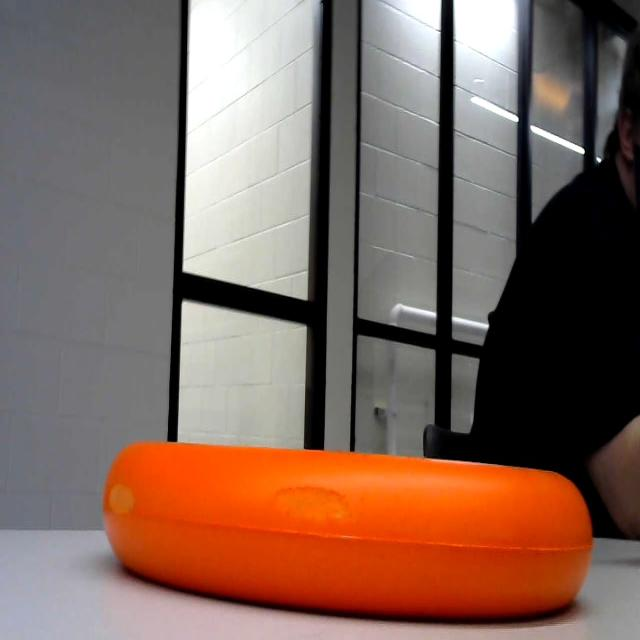note: (96, 424, 609, 640)
